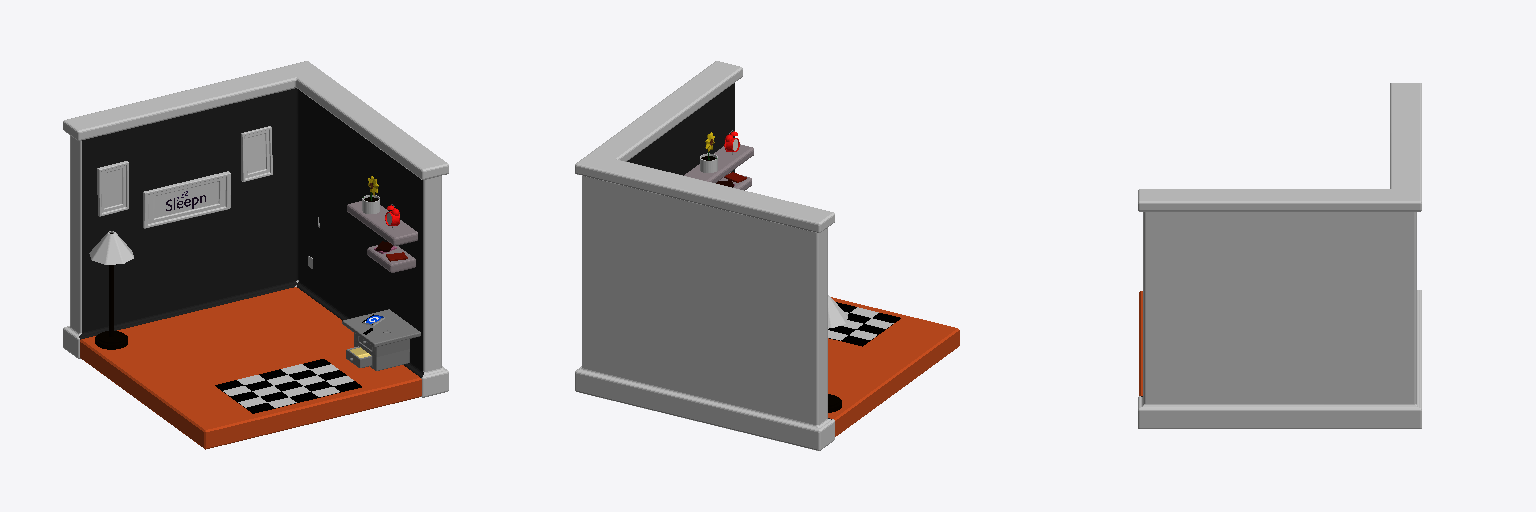
3 renders of one model, left to right at view 1: azimuth 30°, elevation 25°; view 2: azimuth 150°, elevation 25°; view 3: azimuth 270°, elevation 25°, orthographic.
Visible parts, largest first — view 1: Room_Walls_Cube.001, Plane_Plane.001, Rug_Plane.017, Frame2_Cube.007, Nightstand_Plane.015, RoomLamp_Cylinder, Frame3_Cube.008, Frame1_Cube.006, Top_Shelf_Cube.005, Bottom_Shelf_Cube.011; view 2: Room_Walls_Cube.001, Plane_Plane.001, Rug_Plane.017, Top_Shelf_Cube.005, RoomLamp_Cylinder; view 3: Room_Walls_Cube.001.
Boxes of the visible parts, box(x1,y1,x2,y2) form: Room_Walls_Cube.001: box(63, 61, 448, 397); Plane_Plane.001: box(80, 287, 421, 449); Rug_Plane.017: box(215, 359, 361, 413); Frame2_Cube.007: box(143, 171, 230, 228); Nightstand_Plane.015: box(342, 309, 420, 370); RoomLamp_Cylinder: box(89, 231, 133, 349); Frame3_Cube.008: box(241, 126, 272, 181); Frame1_Cube.006: box(97, 161, 128, 216); Top_Shelf_Cube.005: box(347, 201, 417, 245); Bottom_Shelf_Cube.011: box(367, 245, 415, 272); Room_Walls_Cube.001: box(575, 61, 834, 450); Plane_Plane.001: box(828, 297, 959, 436); Rug_Plane.017: box(828, 302, 900, 346); Top_Shelf_Cube.005: box(684, 144, 753, 182); RoomLamp_Cylinder: box(828, 295, 847, 412); Room_Walls_Cube.001: box(1138, 83, 1421, 428).
Bounding box in the file's own units: 2.26 × 2 × 2.26.
Materials: 21 (1 with a texture image).